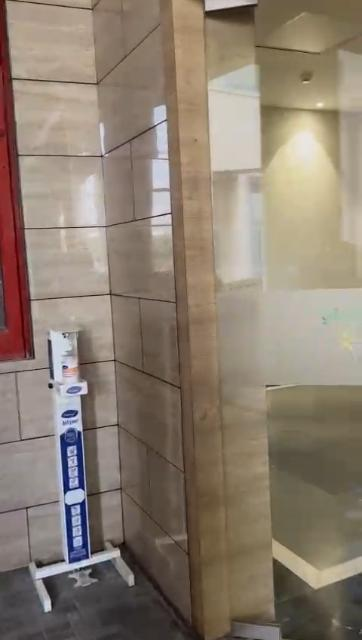floor: (0, 573, 199, 640)
wall: (40, 7, 166, 326), (98, 334, 176, 546), (0, 366, 52, 558)
